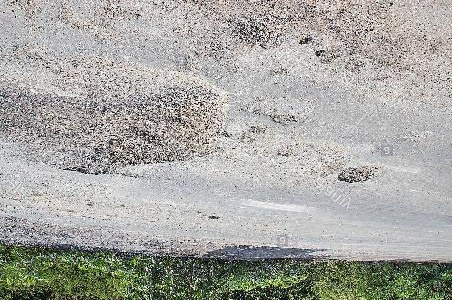pothole: (59, 74, 226, 178), (335, 163, 381, 187), (310, 49, 341, 65), (266, 112, 299, 125), (295, 34, 314, 45), (205, 212, 220, 221)
